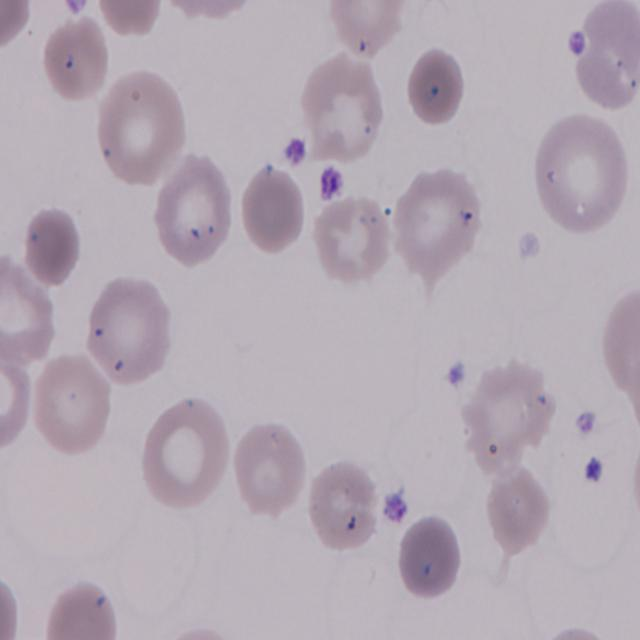RBC: (531, 106, 631, 239), (138, 394, 234, 514), (95, 66, 188, 187), (300, 49, 388, 165), (396, 160, 484, 276), (85, 271, 174, 385), (152, 151, 238, 265), (29, 350, 112, 457), (314, 188, 396, 288), (307, 460, 387, 556), (565, 10, 635, 117), (232, 418, 310, 514), (0, 251, 63, 365), (40, 10, 114, 104), (39, 582, 124, 640), (1, 330, 39, 454), (332, 0, 411, 55), (93, 0, 169, 42), (0, 0, 36, 60)
Spherocyte: (237, 164, 310, 260), (395, 512, 469, 601), (22, 204, 82, 290), (407, 46, 466, 127)
